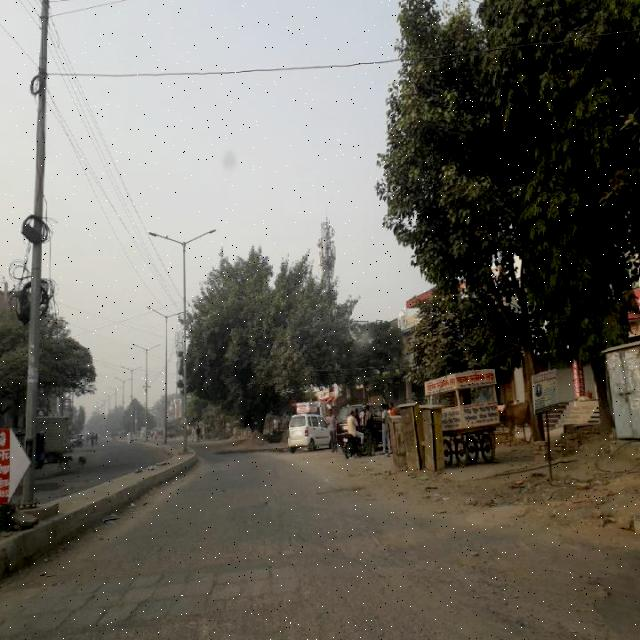D40: (455, 546, 615, 636), (277, 520, 423, 592)
